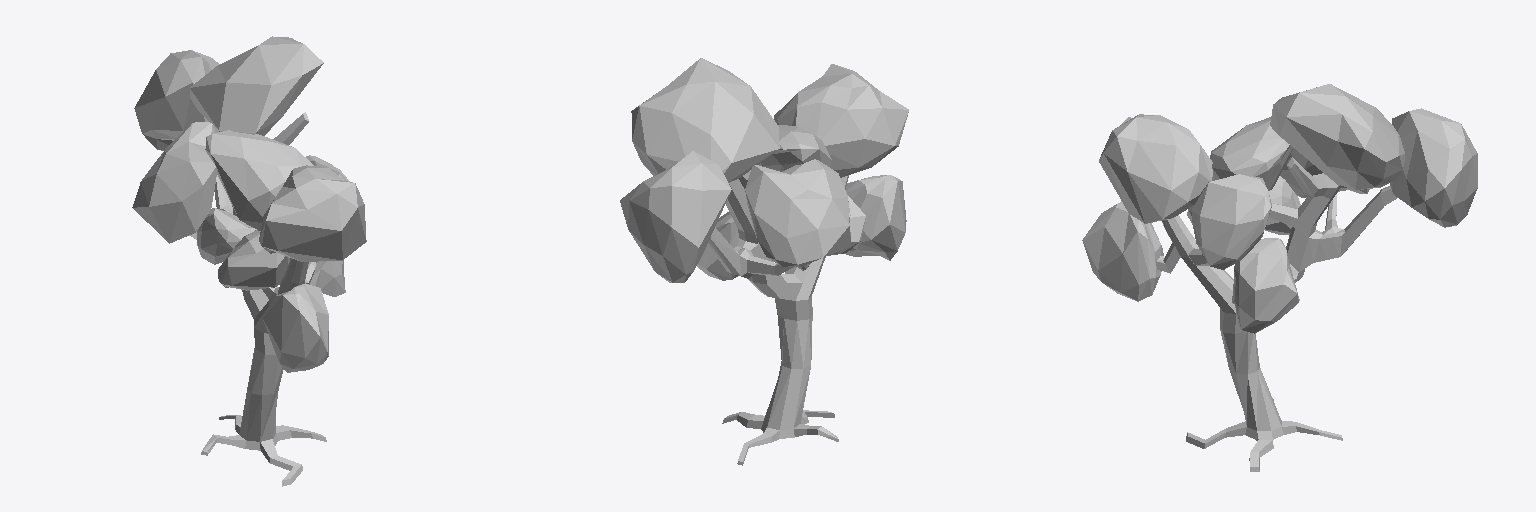
The model's file is tree_0.obj.
3 renders of one model, left to right at view 1: azimuth 30°, elevation 25°; view 2: azimuth 150°, elevation 25°; view 3: azimuth 270°, elevation 25°, orthographic.
Parts seen in each view (by area): view 1: tree_0; view 2: tree_0; view 3: tree_0.
Boxes of the visible parts, x1=… form: tree_0: x1=132, y1=36, x2=366, y2=486; tree_0: x1=620, y1=58, x2=908, y2=465; tree_0: x1=1082, y1=84, x2=1477, y2=471.
Bounding box in the file's own units: 6.06 × 11.75 × 11.01.